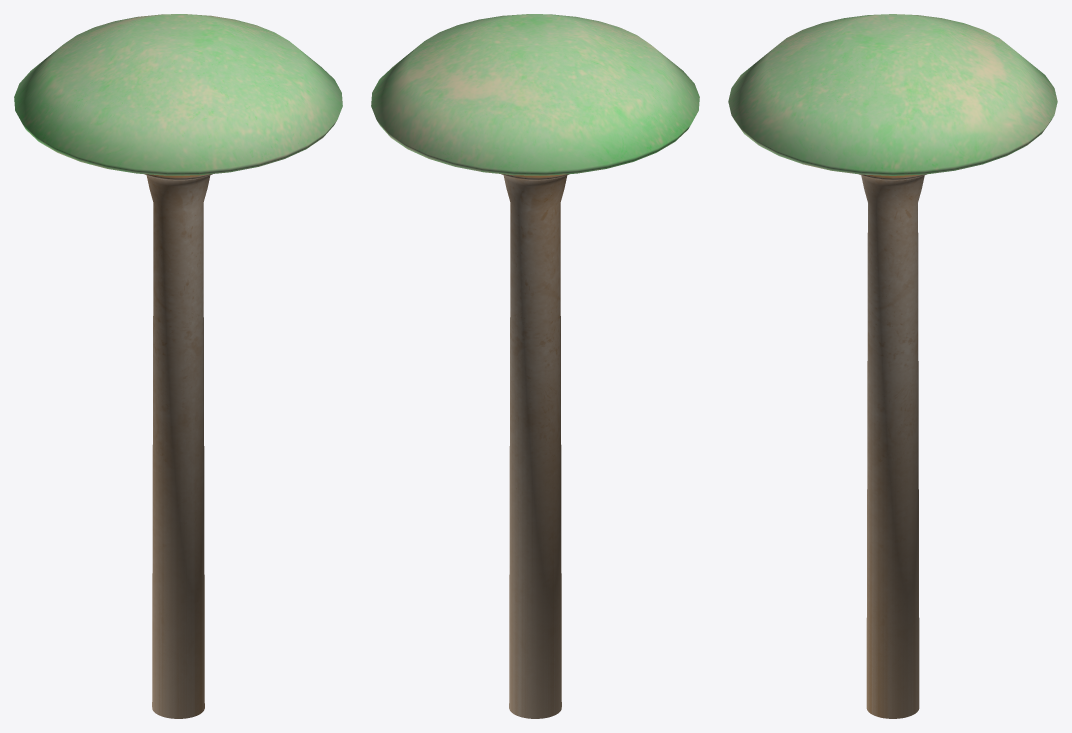
Rendered from LampMushroom.fbx.
3 renders of one model, left to right at view 1: azimuth 30°, elevation 25°; view 2: azimuth 150°, elevation 25°; view 3: azimuth 270°, elevation 25°, orthographic.
Parts seen in each view (by area): view 1: Cylinder.001; view 2: Cylinder.001; view 3: Cylinder.001.
Boxes of the visible parts, box(x1,y1,x2,y2) form: Cylinder.001: box(14, 14, 342, 718); Cylinder.001: box(371, 14, 699, 718); Cylinder.001: box(728, 14, 1057, 718).
Bounding box in the file's own units: 3322 × 7492 × 3322.
